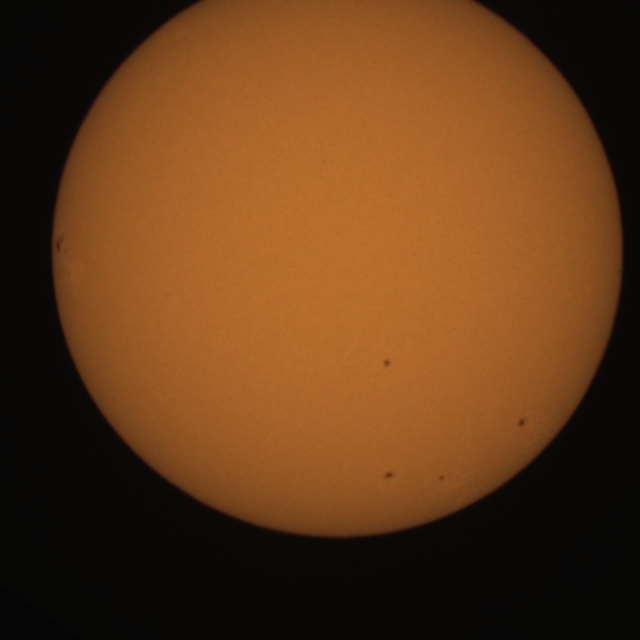sunspot: (54, 232, 69, 256), (382, 470, 396, 482), (516, 416, 528, 429), (382, 357, 392, 369), (437, 474, 446, 482)
